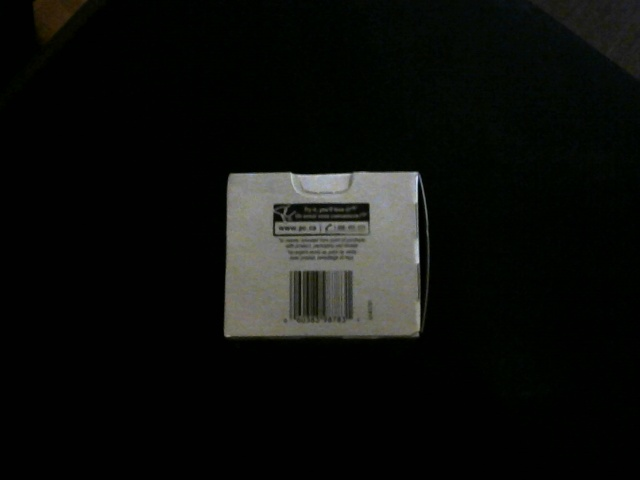Barcode: (288, 269, 355, 324)
